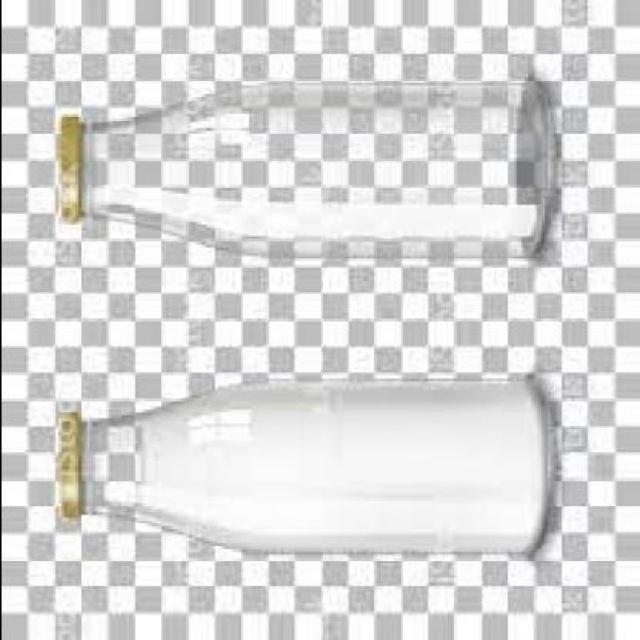glass: (77, 83, 557, 262), (77, 384, 552, 558)
metal: (52, 120, 80, 228), (54, 419, 77, 523)
